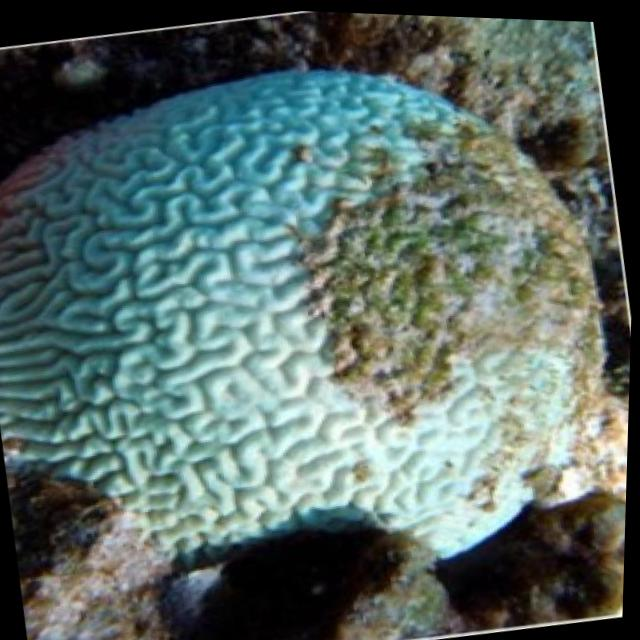Bleached Coral: (0, 7, 626, 608)
